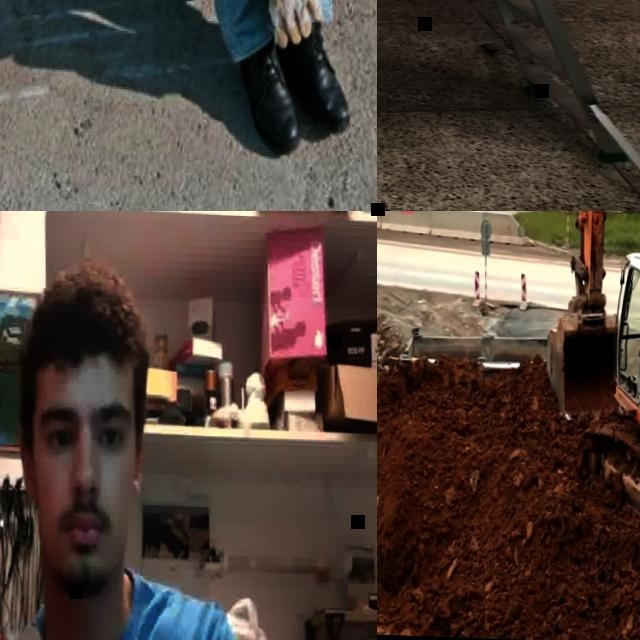NO-Hardhat: (26, 265, 142, 390)
NO-Mask: (35, 501, 127, 590)
NO-Safety Vest: (0, 581, 188, 640)
Person: (0, 255, 272, 640), (141, 0, 366, 156)
machinery: (535, 211, 640, 593)
